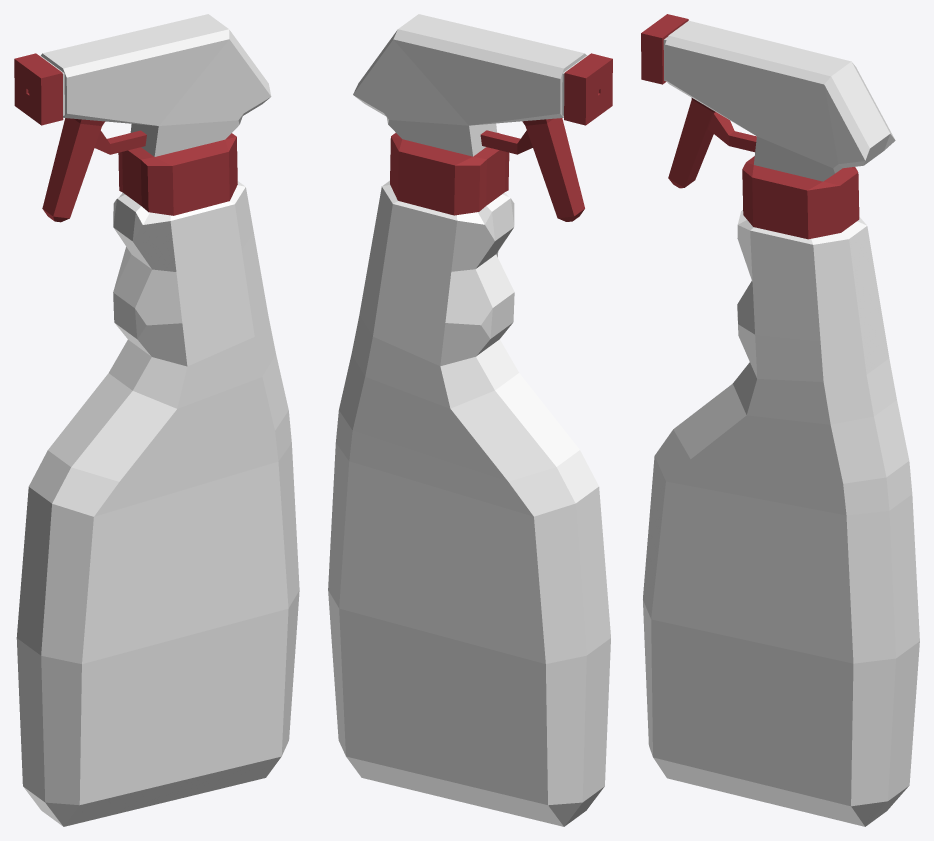
The model's file is Windex.gltf.
3 views of the same model, side by side, from view 1: azimuth 30°, elevation 25°; view 2: azimuth 150°, elevation 25°; view 3: azimuth 330°, elevation 25° (orthographic). The views are drawn at different scales.
Visible parts, largest first — view 1: node-0; view 2: node-0; view 3: node-0.
Boxes of the visible parts, bbox=[...] form: node-0: bbox=[14, 14, 299, 826]; node-0: bbox=[328, 14, 612, 826]; node-0: bbox=[641, 14, 919, 826].
Bounding box in the file's own units: 1.09 × 3.03 × 0.4114.
